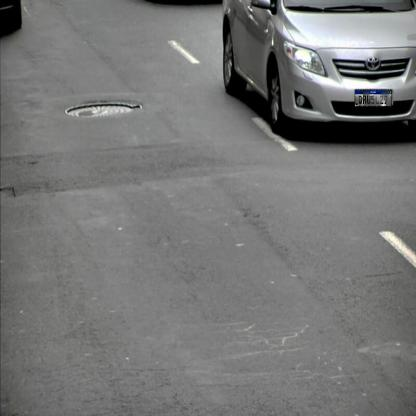PlacaM: (355, 89, 392, 107)
